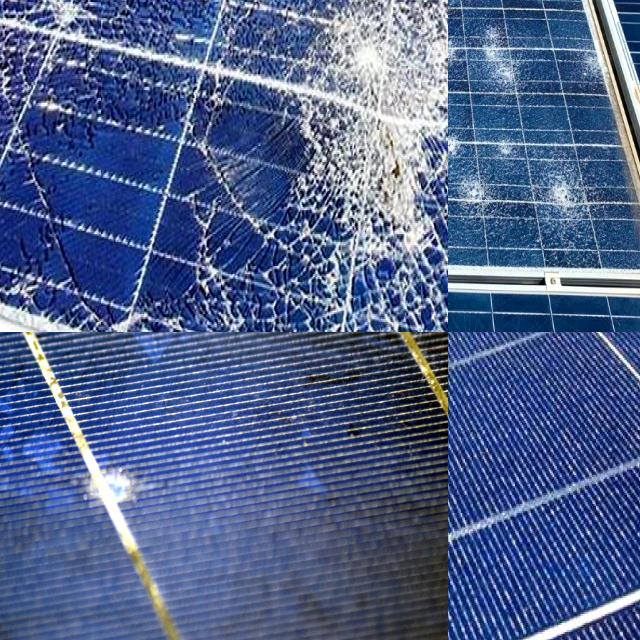crack: (448, 332, 640, 640)
hotspot: (288, 0, 448, 269), (0, 0, 158, 98), (175, 227, 282, 332), (448, 28, 525, 114), (304, 292, 448, 332), (541, 162, 597, 262), (448, 194, 482, 280), (448, 123, 533, 157), (450, 173, 502, 218), (574, 41, 618, 94), (448, 52, 475, 131), (448, 0, 482, 41), (448, 31, 468, 99), (448, 0, 492, 28), (448, 0, 502, 20), (448, 0, 466, 21)
shadow: (63, 444, 182, 560)
